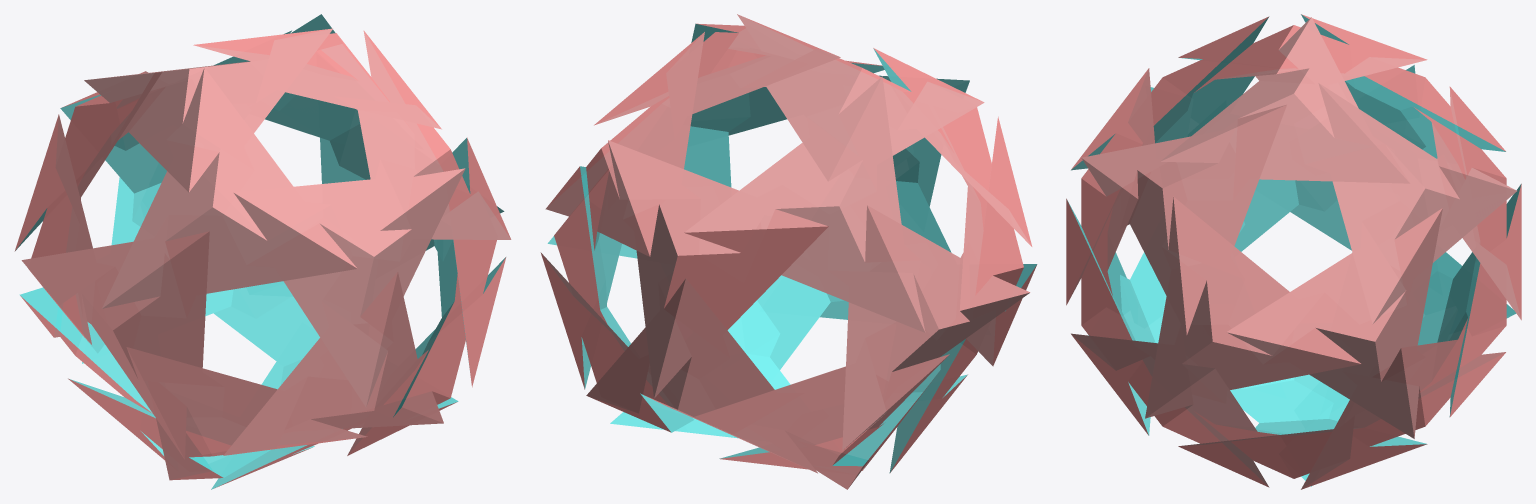
File: RegularMap_E.obj
3 views of the same model, side by side, from view 1: azimuth 30°, elevation 25°; view 2: azimuth 150°, elevation 25°; view 3: azimuth 270°, elevation 25° (orthographic). The views are drawn at different scales.
Size of the model in its own units: 4.15 by 4.15 by 4.15.
